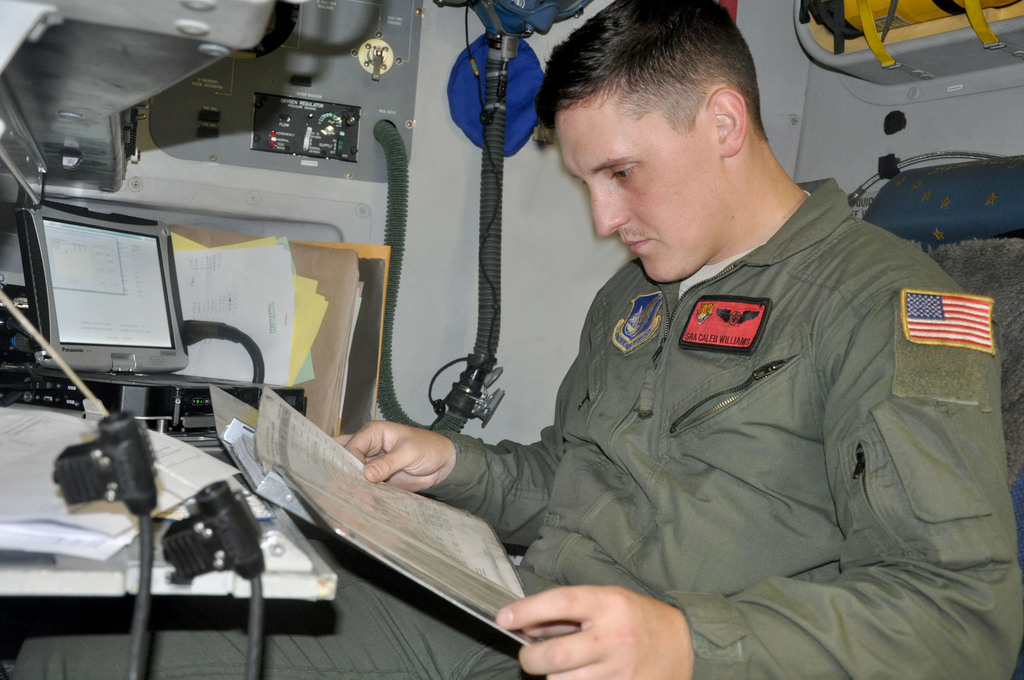Person: (330, 0, 1024, 680)
